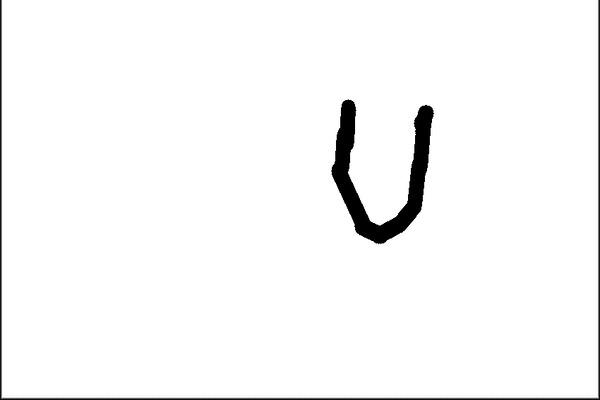U: (323, 88, 435, 245)
